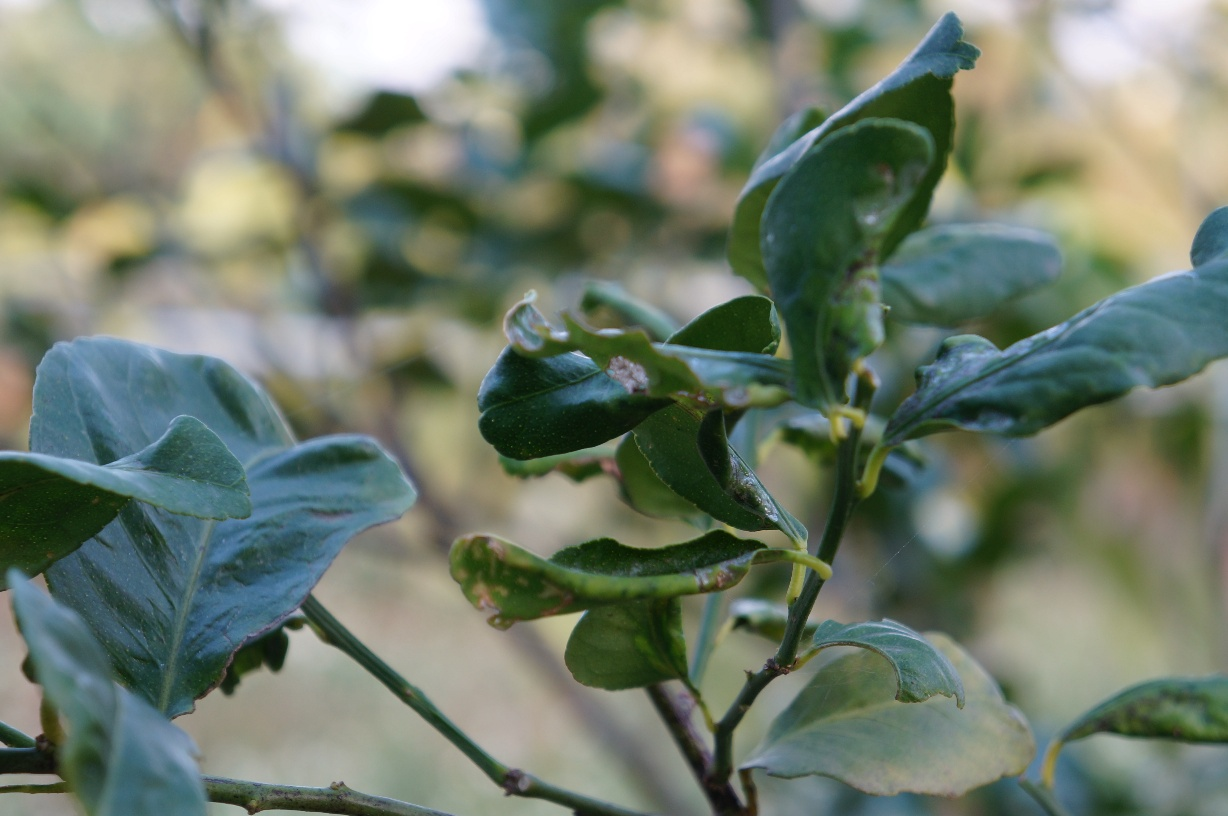curly: (440, 524, 792, 635)
